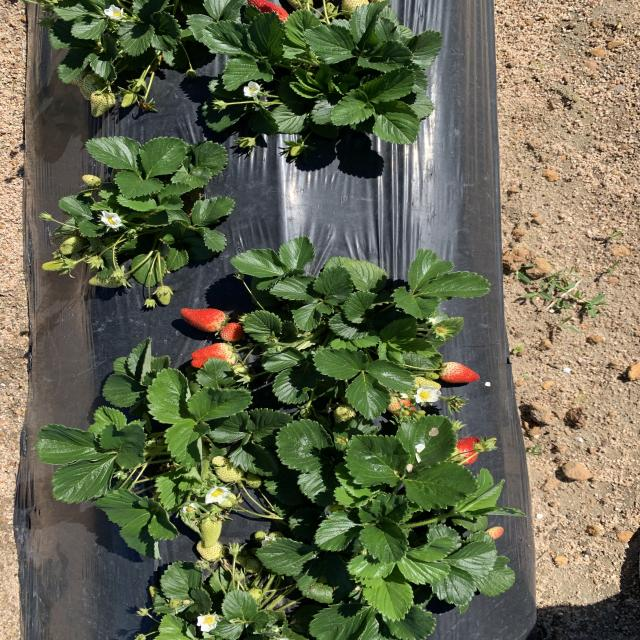unripe: (239, 0, 295, 28), (444, 434, 488, 466), (178, 306, 232, 332), (188, 341, 240, 368), (222, 323, 247, 344)
